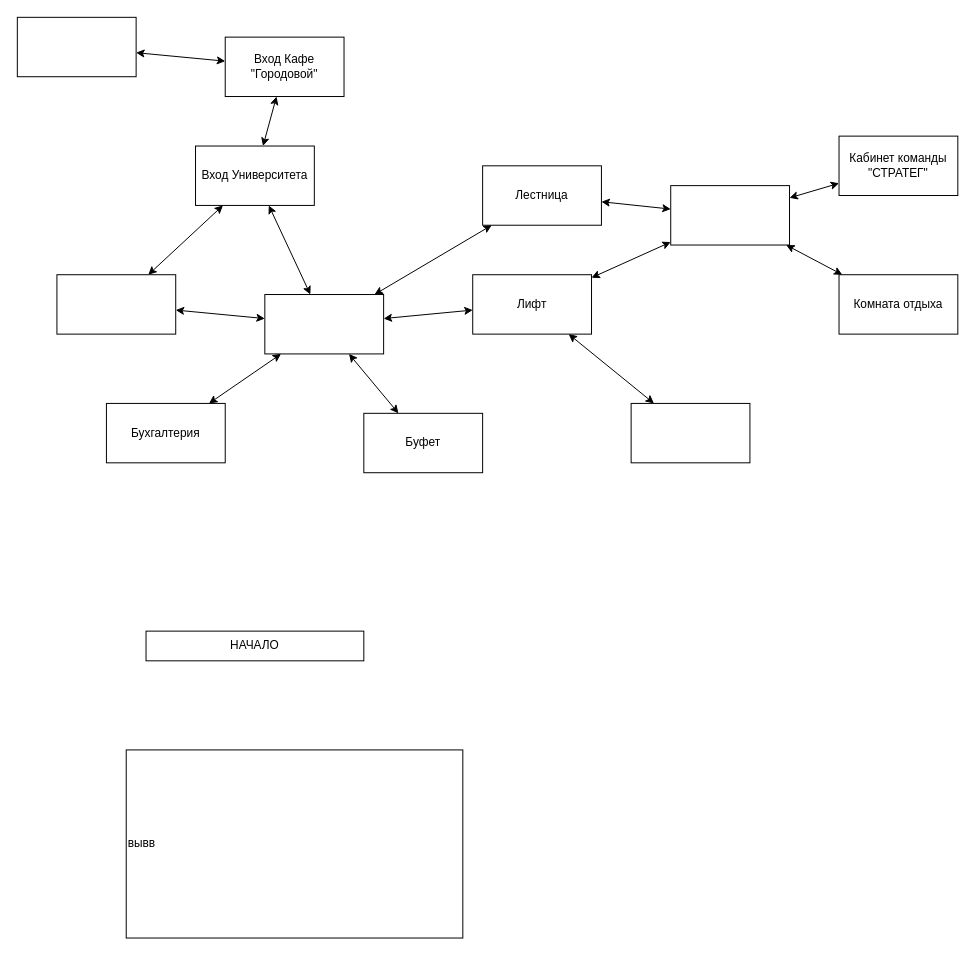
This 975x955 diagram has some shape labels left out. The shapes that lost their labels are listed below. From the top down, each one's centre as x and y in pixels, then its label:
(76,46): Кафе "Городовой"
(730,215): Коридор 8-го этажа
(116,304): Внутренний двор
(324,324): 1-й этаж
(690,432): Ядро проекта "СТРАТЕГ"
